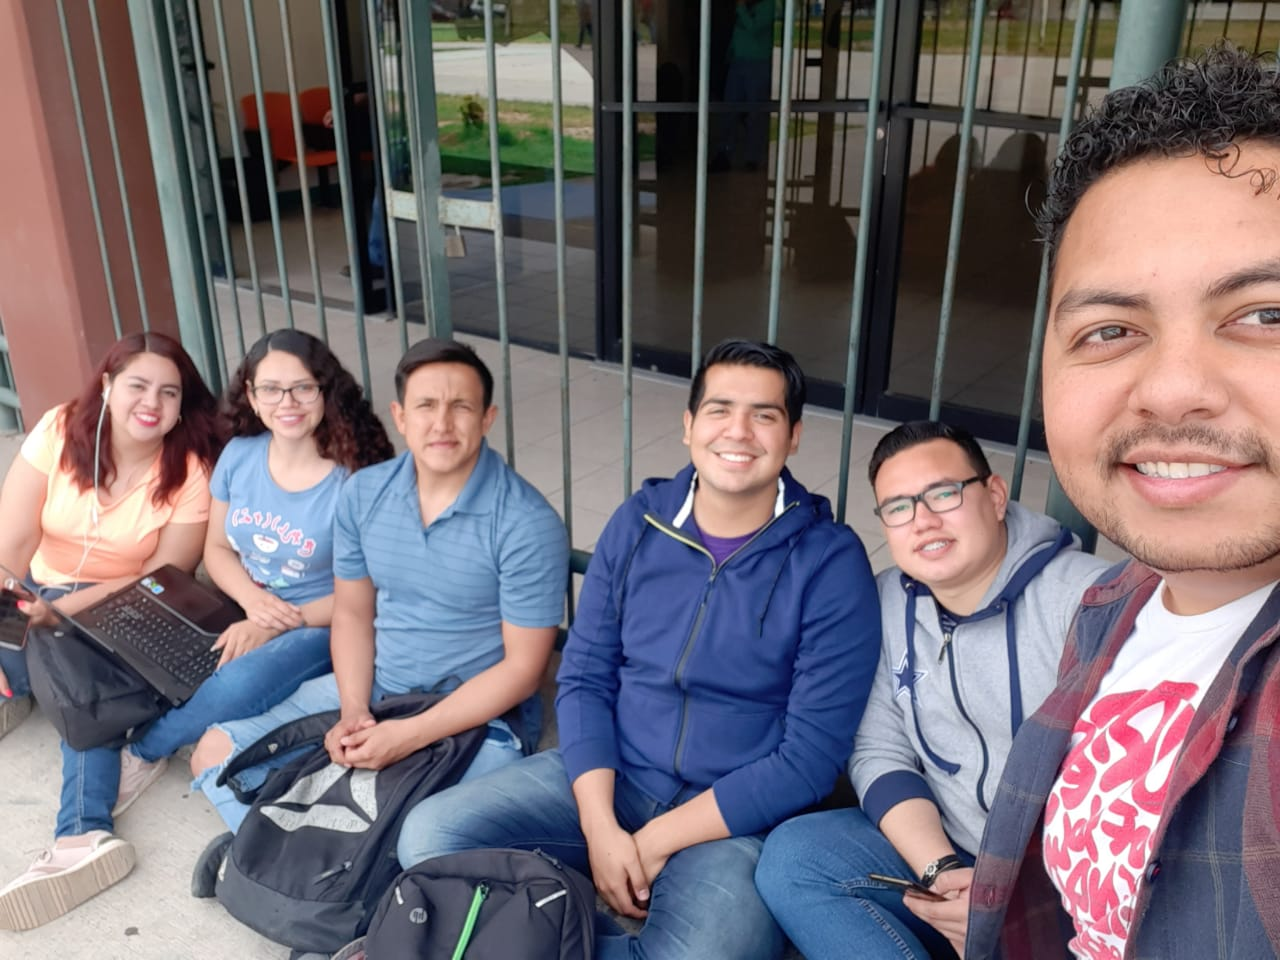Yoshi: (984, 38, 1271, 624)
